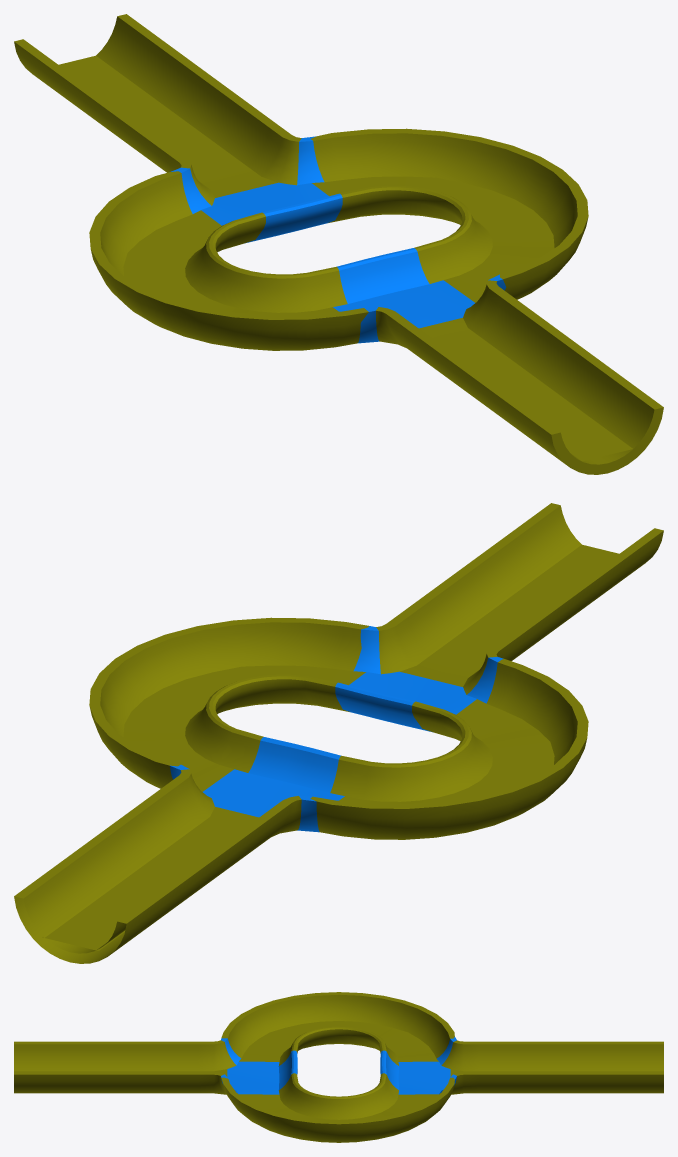
File: Slide_Circle_Ring_Straight.fbx
3 renders of one model, top to bottom at view 1: azimuth 30°, elevation 25°; view 2: azimuth 150°, elevation 25°; view 3: azimuth 270°, elevation 25°, orthographic. The views are drawn at different scales.
Parts seen in each view (by area): view 1: Slide_Circle_Ring_Straight; view 2: Slide_Circle_Ring_Straight; view 3: Slide_Circle_Ring_Straight.
Part boxes in pixels (box(x1,y1,x2,y2)): Slide_Circle_Ring_Straight: box(14, 14, 663, 474); Slide_Circle_Ring_Straight: box(14, 503, 663, 963); Slide_Circle_Ring_Straight: box(14, 992, 663, 1142).
Bounding box in the file's own units: 926 × 1924 × 104.
